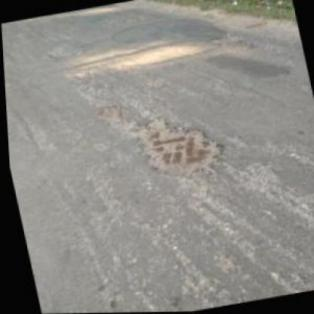Hueco: (127, 106, 233, 187), (206, 30, 258, 57), (94, 102, 122, 127)
